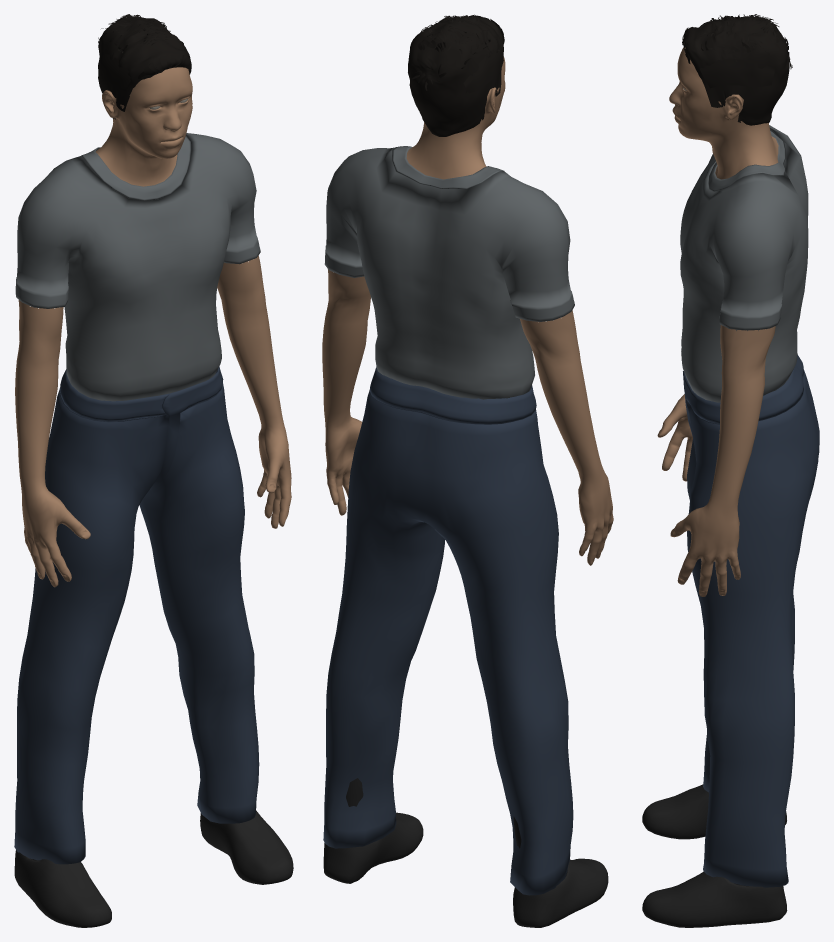
Rendered from broad.glb.
3 views of the same model, side by side, from view 1: azimuth 30°, elevation 25°; view 2: azimuth 150°, elevation 25°; view 3: azimuth 270°, elevation 25° (orthographic). The views are drawn at different scales.
Parts seen in each view (by area): view 1: Pants, Shirt, Skin, Shoes, Head, Hair; view 2: Pants, Shirt, Skin, Hair, Shoes, Head; view 3: Pants, Shirt, Skin, Shoes, Hair, Head.
Boxes of the visible parts, bbox=[...] form: Pants: bbox=[14, 366, 259, 864]; Shirt: bbox=[15, 133, 260, 401]; Skin: bbox=[15, 255, 291, 587]; Shoes: bbox=[14, 810, 293, 927]; Head: bbox=[96, 67, 192, 186]; Hair: bbox=[98, 14, 191, 119]; Pants: bbox=[323, 367, 573, 895]; Shirt: bbox=[324, 146, 574, 399]; Skin: bbox=[322, 269, 613, 565]; Hair: bbox=[408, 14, 504, 136]; Shoes: bbox=[323, 778, 608, 927]; Head: bbox=[406, 56, 505, 179]; Pants: bbox=[683, 355, 819, 887]; Shirt: bbox=[680, 125, 808, 402]; Skin: bbox=[657, 325, 775, 596]; Shoes: bbox=[642, 784, 787, 927]; Hair: bbox=[682, 14, 792, 125]; Head: bbox=[669, 47, 778, 179].
Bounding box in the file's own units: 0.5697 × 1.76 × 0.3306.
